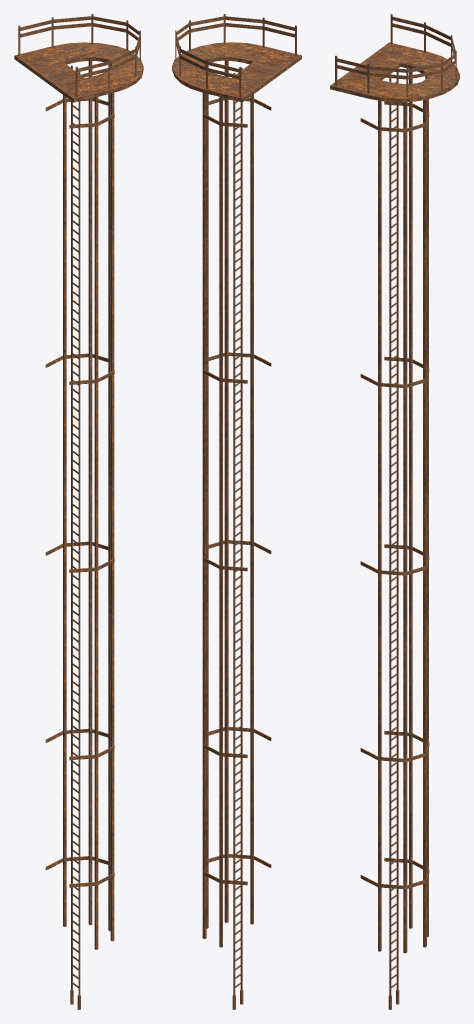
Rendered from ladder_big.fbx.
3 renders of one model, left to right at view 1: azimuth 30°, elevation 25°; view 2: azimuth 150°, elevation 25°; view 3: azimuth 330°, elevation 25°, orthographic.
Parts seen in each view (by area): view 1: Mesh Object; view 2: Mesh Object; view 3: Mesh Object.
Part boxes in pixels (x1,y1,x2,y2): Mesh Object: (14,14,143,1009); Mesh Object: (172,14,301,1009); Mesh Object: (330,14,459,1009).
Bounding box in the file's own units: 3.34 × 33.59 × 3.74.
